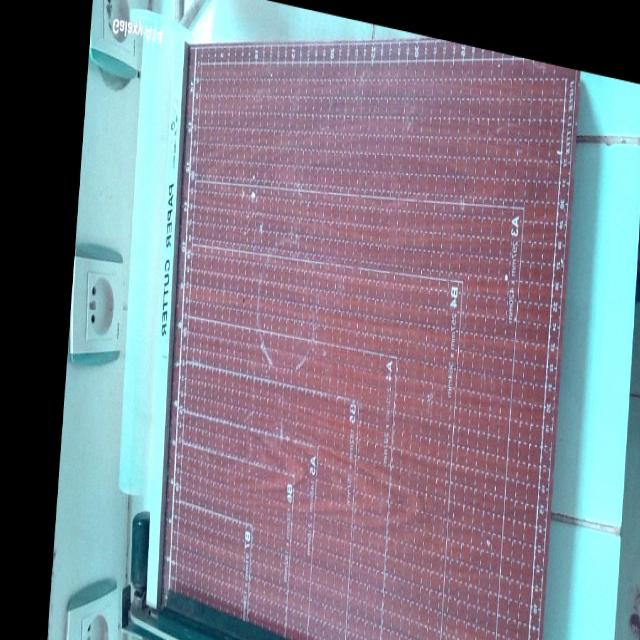TLC Cutter: (105, 0, 620, 640)
